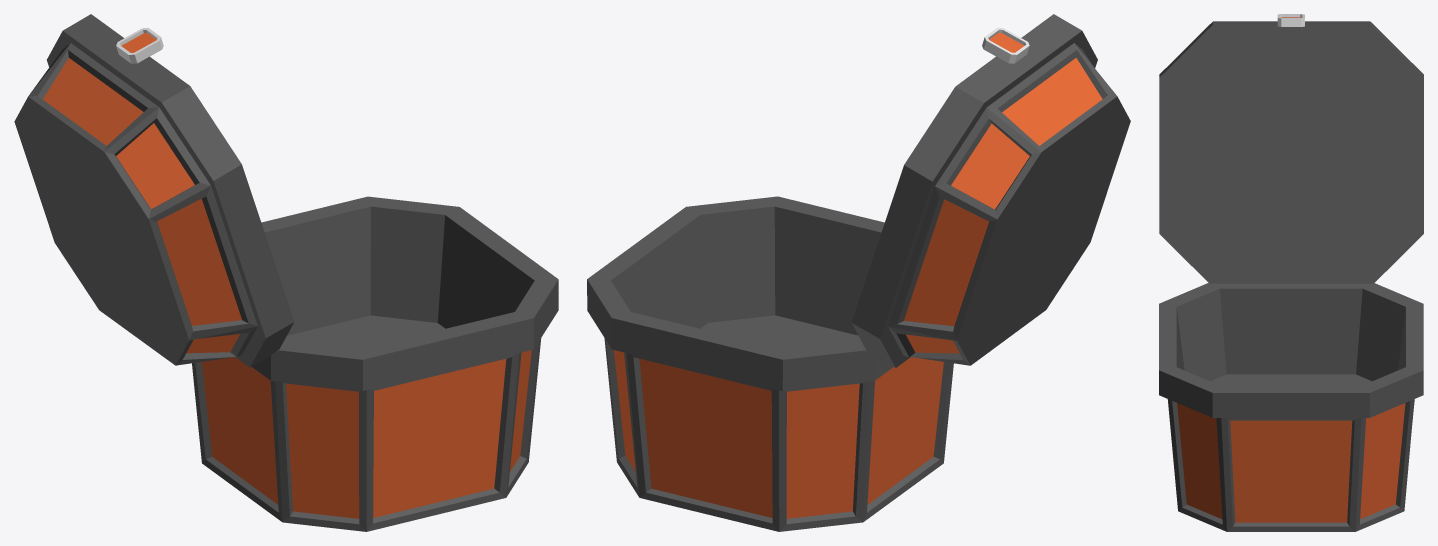
3 views of the same model, side by side, from view 1: azimuth 30°, elevation 25°; view 2: azimuth 150°, elevation 25°; view 3: azimuth 270°, elevation 25° (orthographic). The views are drawn at different scales.
Parts seen in each view (by area): view 1: Cube, Cube.001; view 2: Cube, Cube.001; view 3: Cube.001, Cube.
Part boxes in pixels (left/top/right/bottom): Cube: left=192, top=196, right=558, bottom=531; Cube.001: left=14, top=14, right=294, bottom=367; Cube: left=587, top=196, right=953, bottom=531; Cube.001: left=851, top=14, right=1130, bottom=367; Cube.001: left=1159, top=14, right=1423, bottom=283; Cube: left=1159, top=283, right=1423, bottom=531.
Size of the model in its own units: 0.8177 by 0.8498 by 0.5317.
